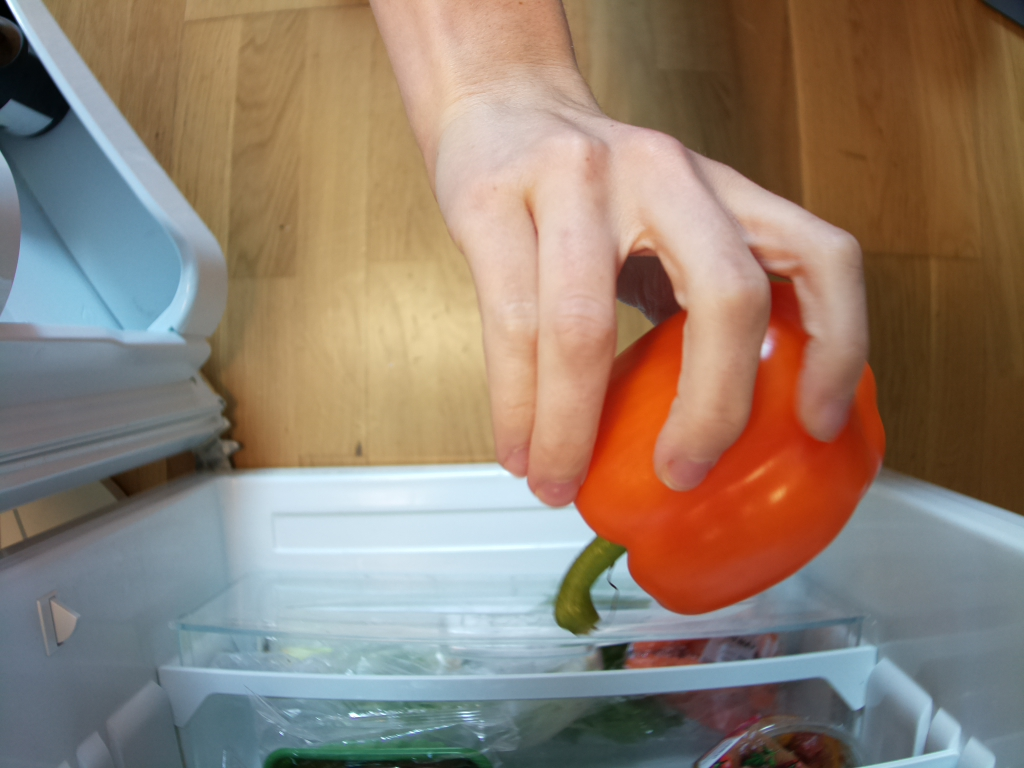pepper: (554, 282, 885, 633)
